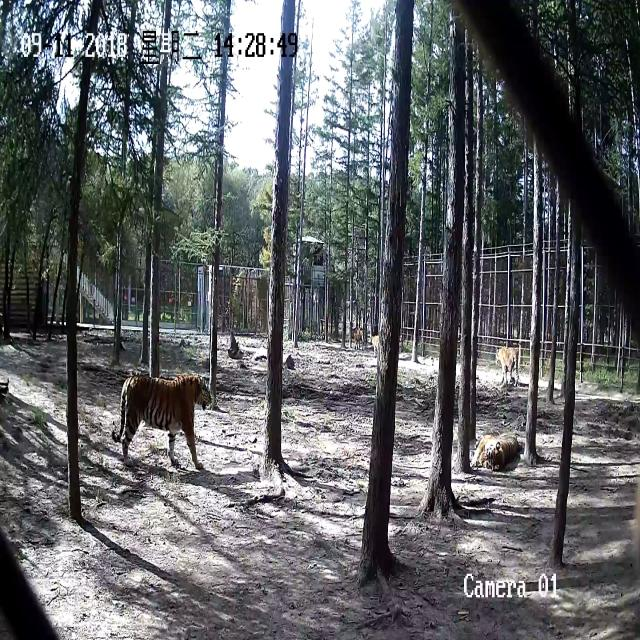Tiger: (103, 361, 234, 478), (470, 423, 525, 478), (491, 337, 518, 391)
